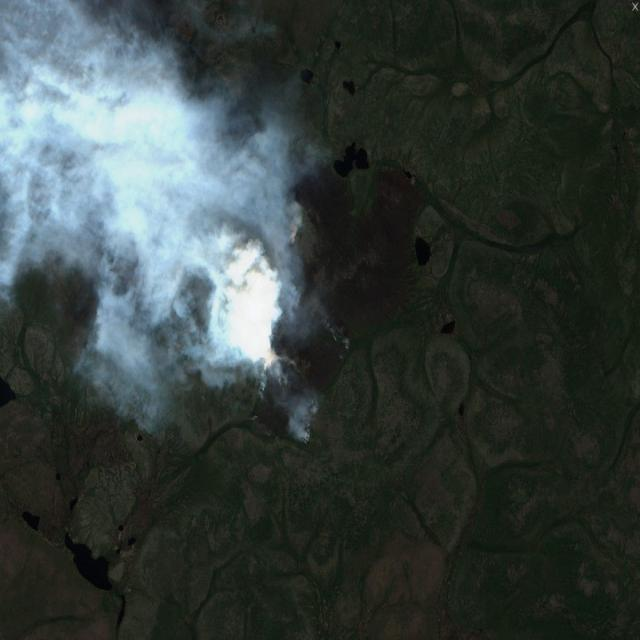fire: (238, 227, 329, 457)
